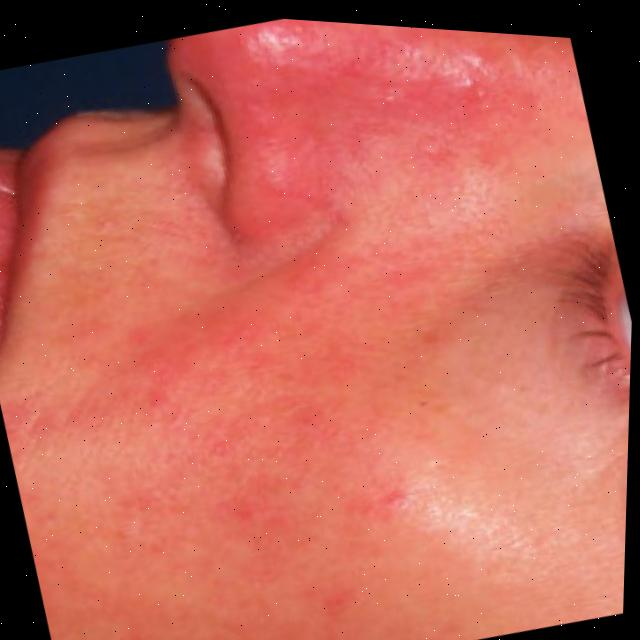Rosacea: (207, 14, 591, 258)
